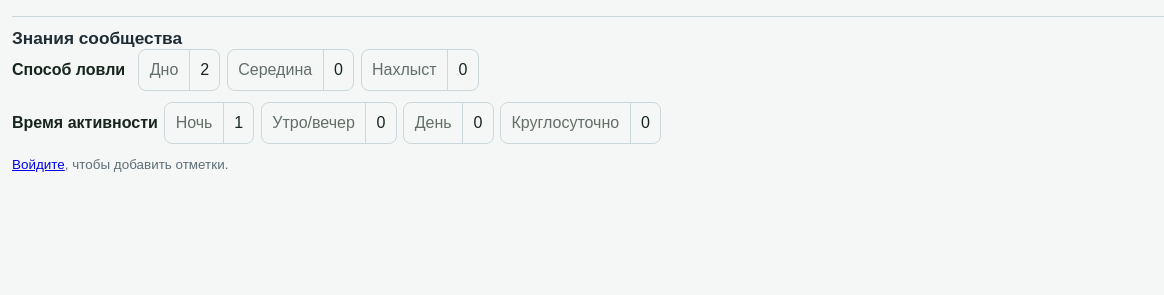
Test: anonymous readers see counters and voters with a login link for voting
The image size is (1164, 295).
Expected: the button "Дно" is disabled, [139, 50, 189, 90]
Step 1. Click the button named "Кто отметил «Дно»" → (204, 70), box [189, 50, 220, 90]
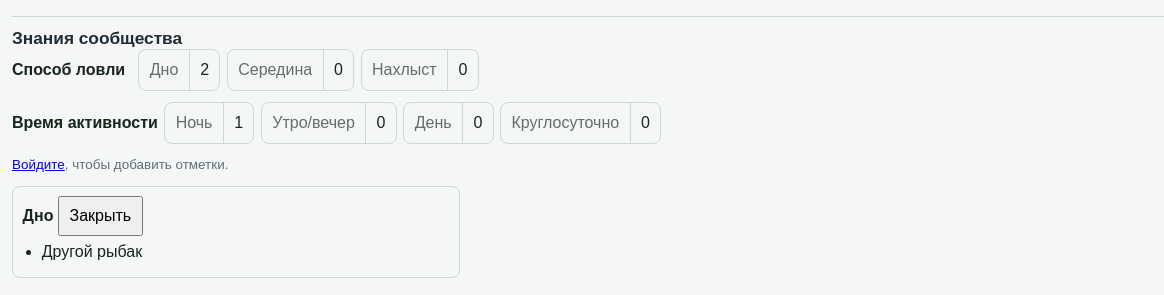
Expected: the list item "Другой рыбак" is shown, [42, 243, 142, 260]
